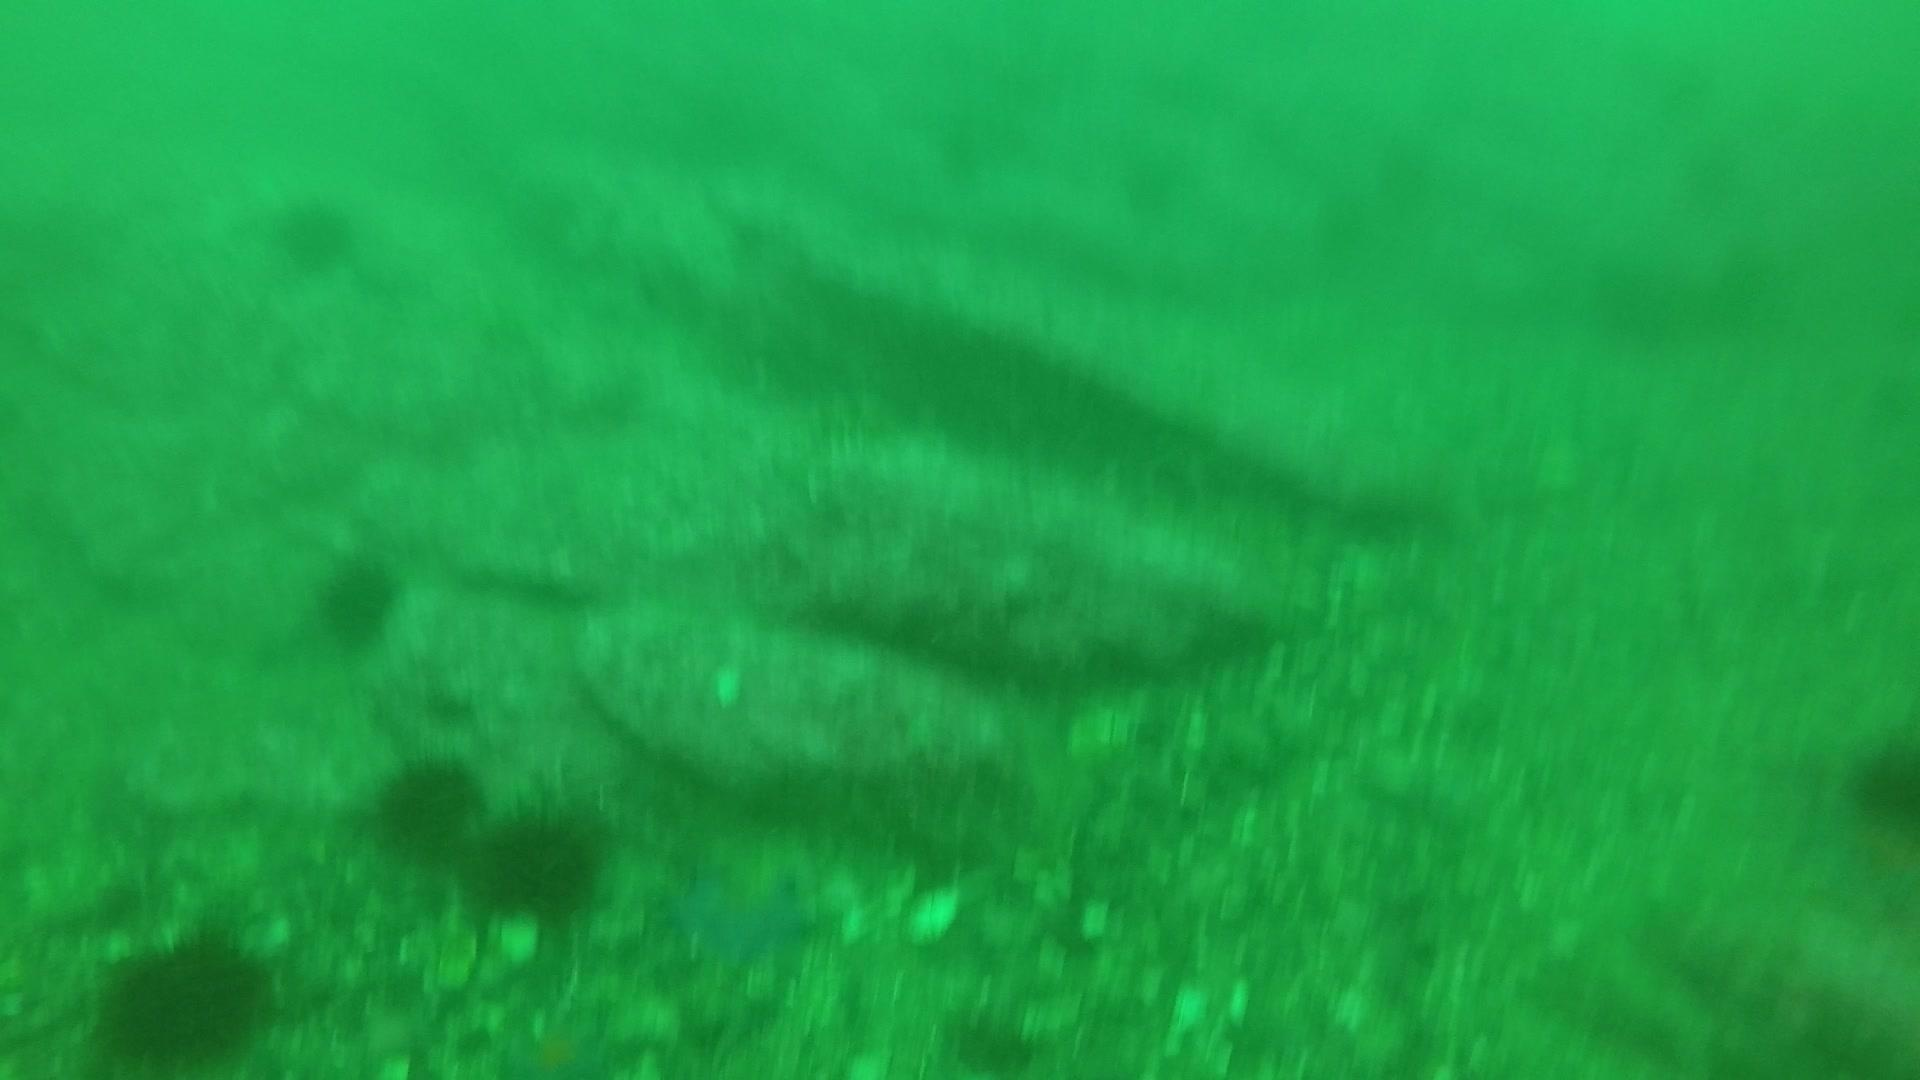echinus: (86, 918, 281, 1071), (469, 793, 613, 926), (367, 749, 491, 865), (310, 549, 407, 650), (266, 189, 361, 274), (1844, 728, 1919, 833)
starfish: (659, 849, 828, 978), (496, 1004, 618, 1076)
